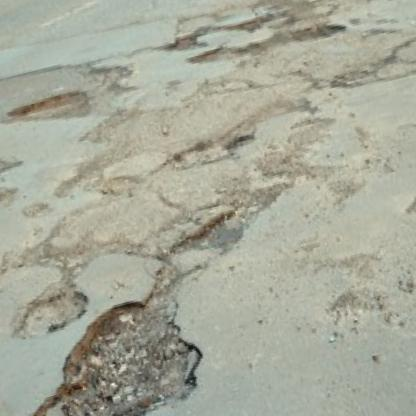pothole: (0, 285, 215, 416), (47, 150, 140, 215), (167, 210, 252, 281), (1, 284, 95, 347), (161, 122, 261, 178), (5, 88, 91, 124), (186, 37, 255, 71), (285, 14, 346, 46), (161, 30, 197, 56), (20, 196, 51, 221), (0, 181, 20, 211)
